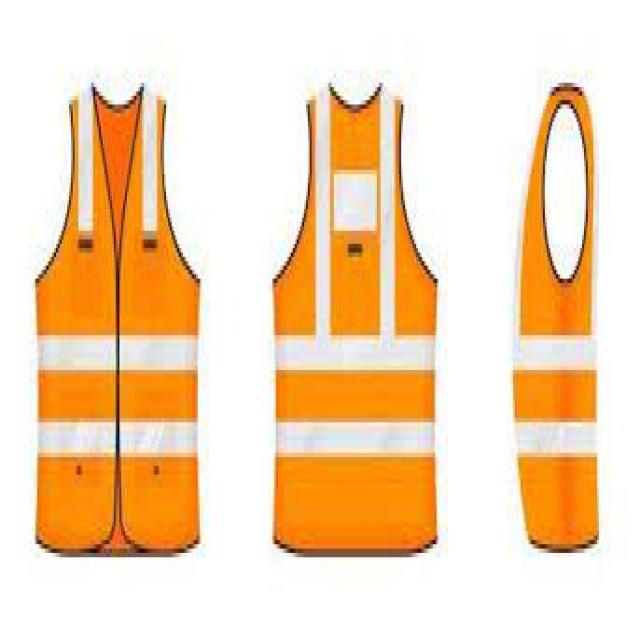Reflective-Jacket: (257, 66, 448, 570), (22, 74, 209, 570), (500, 65, 608, 566)
